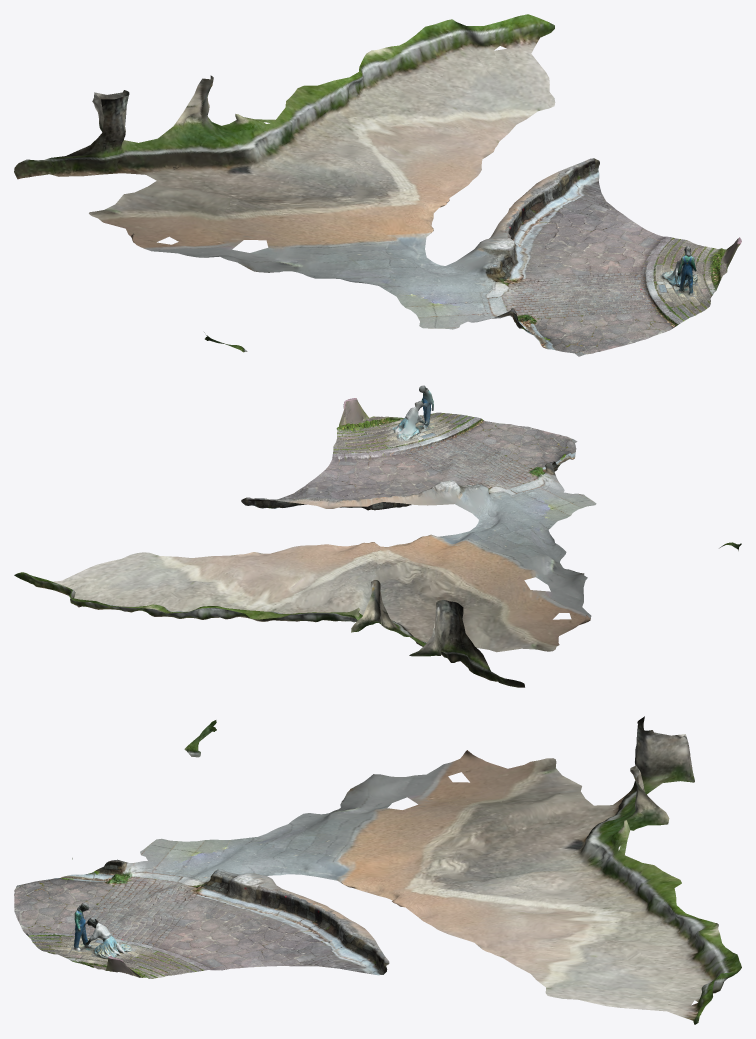
The picture shows the model from 3 angles, top to bottom: view 1: azimuth 30°, elevation 25°; view 2: azimuth 150°, elevation 25°; view 3: azimuth 270°, elevation 25°; orthographic projection. The views are drawn at different scales.
Parts seen in each view (by area): view 1: baked_mesh_300d0413; view 2: baked_mesh_300d0413; view 3: baked_mesh_300d0413.
Boxes of the visible parts, <box> form: baked_mesh_300d0413: <box>14,14,741,356</box>; baked_mesh_300d0413: <box>14,385,741,687</box>; baked_mesh_300d0413: <box>14,716,741,1024</box>.
Bounding box in the file's own units: 7.23 × 0.9407 × 7.54.
Materials: 1 (1 with a texture image).
